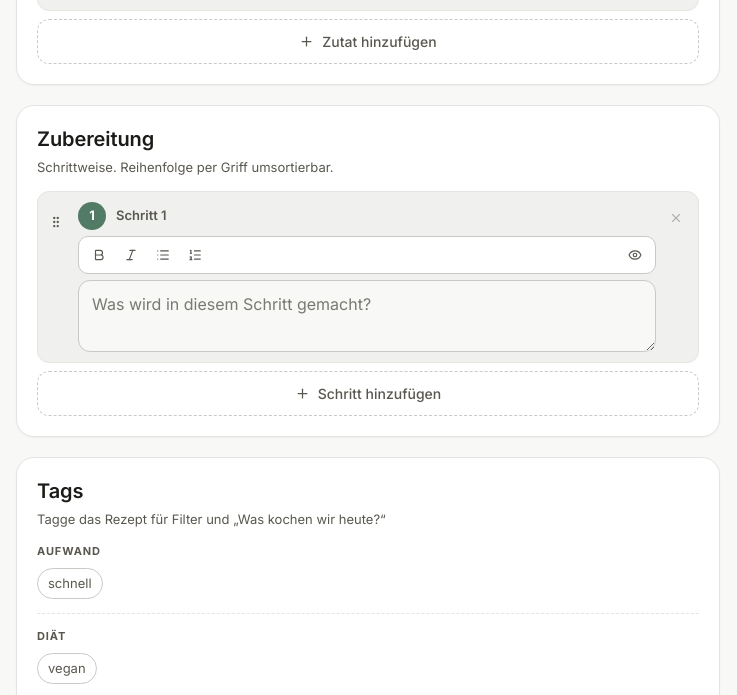
RecipeFormPage (create) › toggles the step preview mode between textarea and rendered Markdown
This screenshot has width=737, height=695.
(page scrolled)
In the text box named "Schritt 1": (367, 316) [78,280,656,352], type "Mit **Salz** abschmecken"
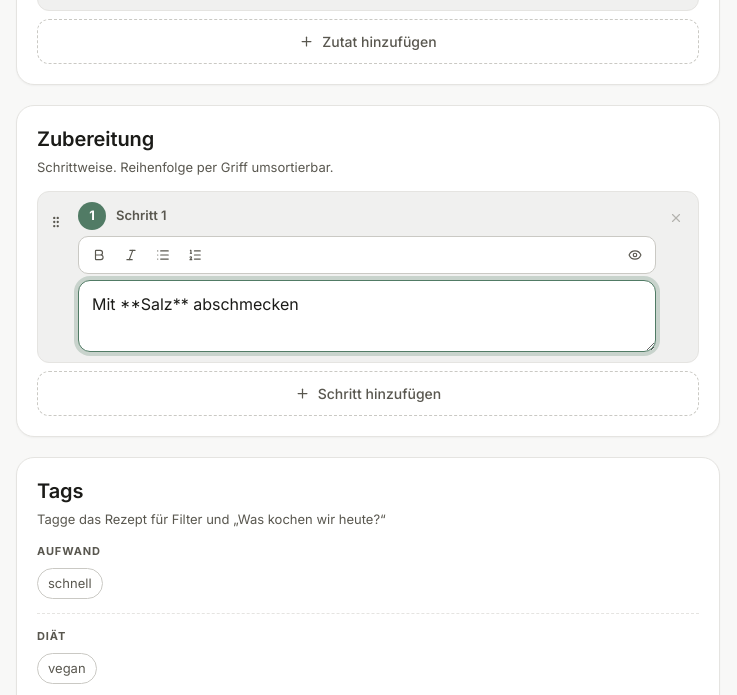
Click the button named "Vorschau": click(635, 255) [621,241,649,269]
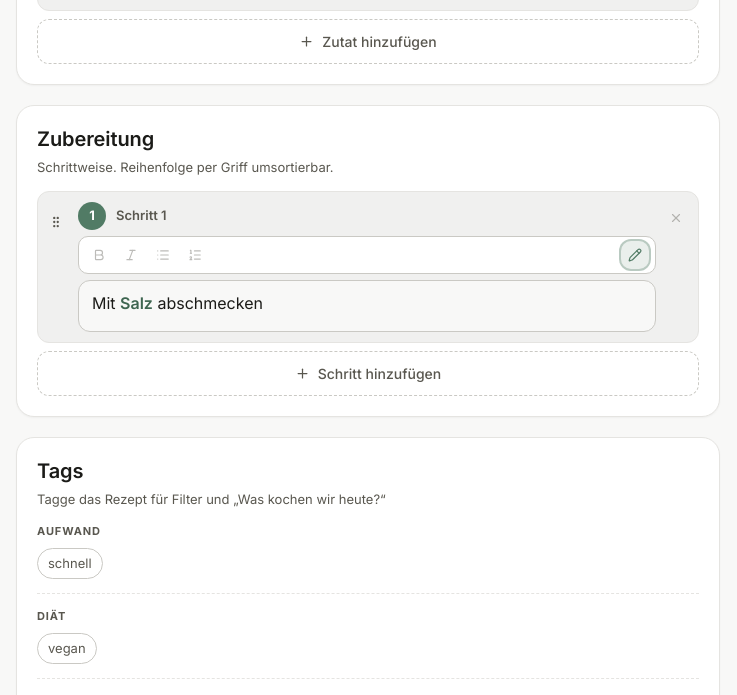
# Flip back.
Click the button named "Bearbeiten": click(635, 255) [621,241,649,269]
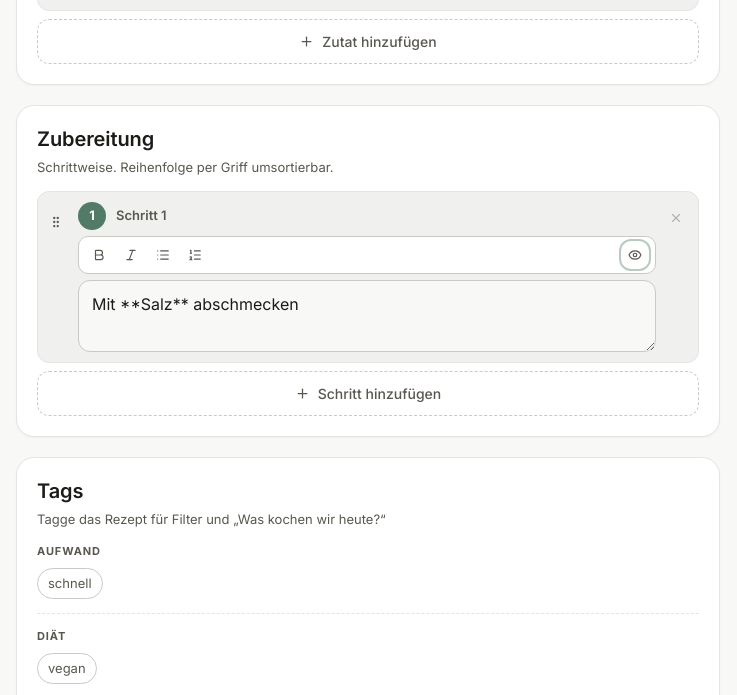
Expected: the text box named "Schritt 1" is shown, [78,280,656,352]
